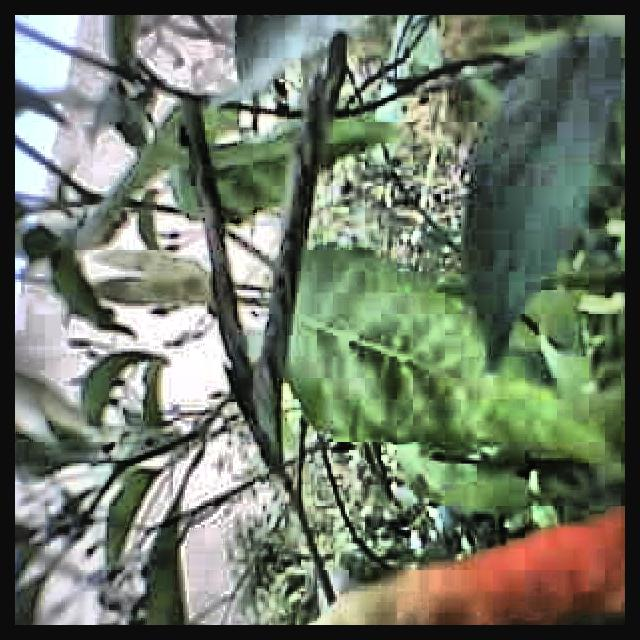Cabai: (273, 508, 625, 625)
